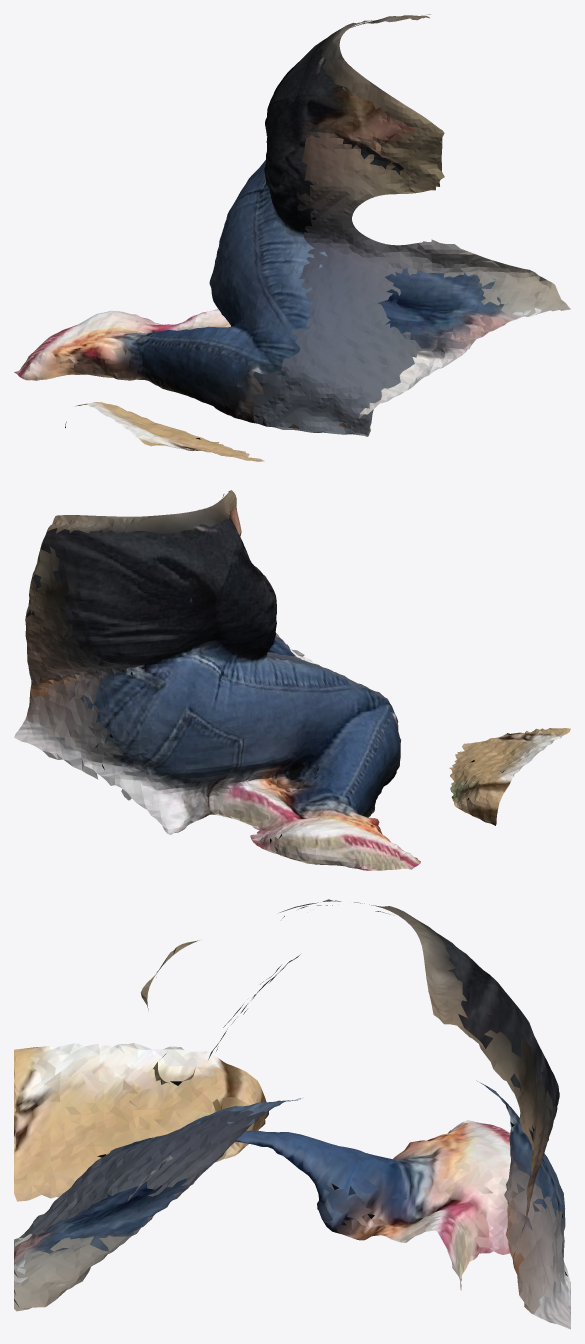
3 views of the same model, one above another, from view 1: azimuth 30°, elevation 25°; view 2: azimuth 150°, elevation 25°; view 3: azimuth 270°, elevation 25° (orthographic). The views are drawn at different scales.
Bounding box in the file's own units: 0.7699 × 0.5037 × 0.5756.
1 material, 1 textured.
